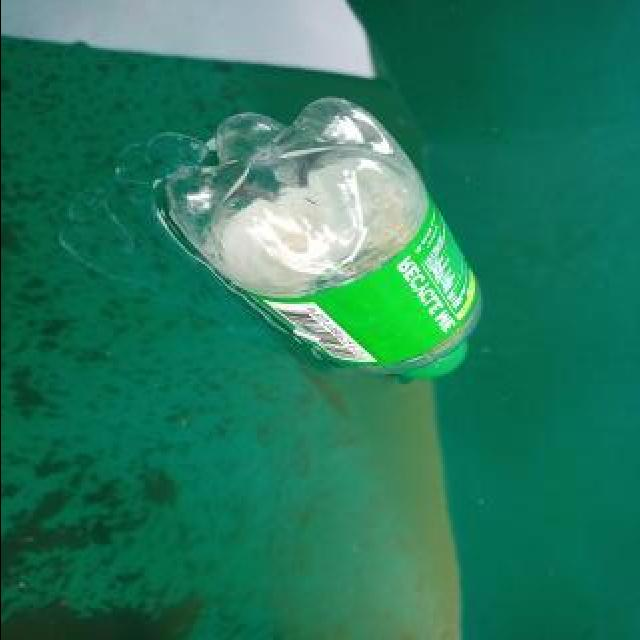Bottle: (157, 92, 489, 380)
